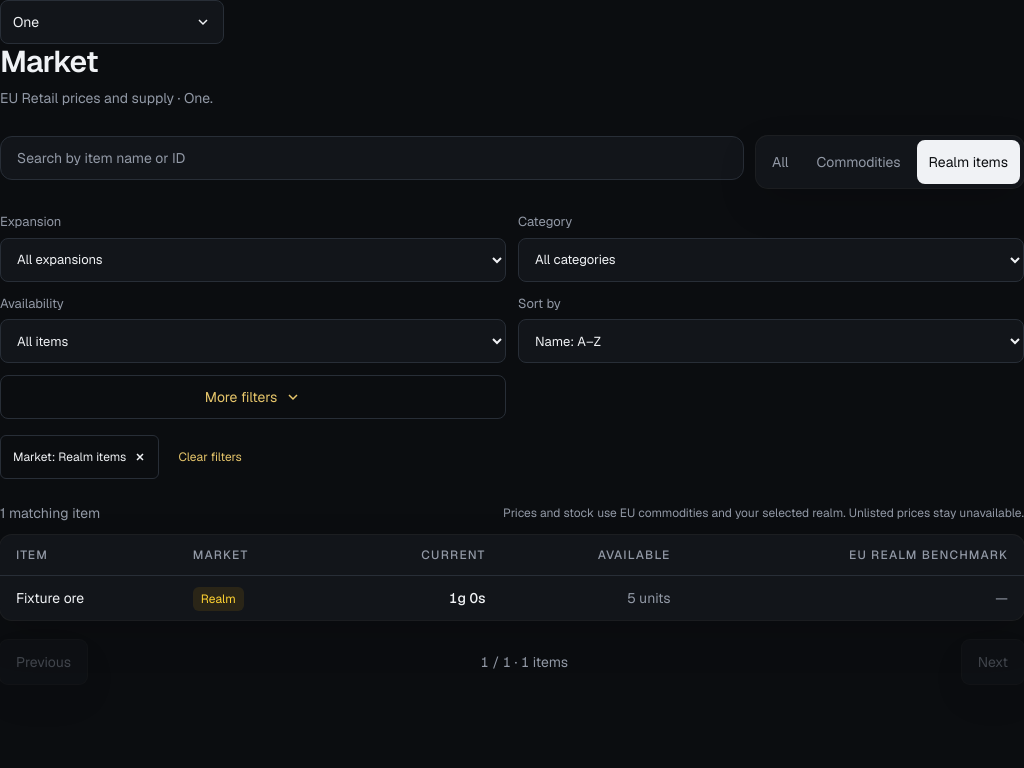
a failed refresh labels retained prices and can be retried after switching back to a realm
Expected: the link "Fixture ore" is shown, [16, 589, 84, 607]
Click the button with aria-label "Connected realm:" at (112, 22), box [0, 0, 224, 44]
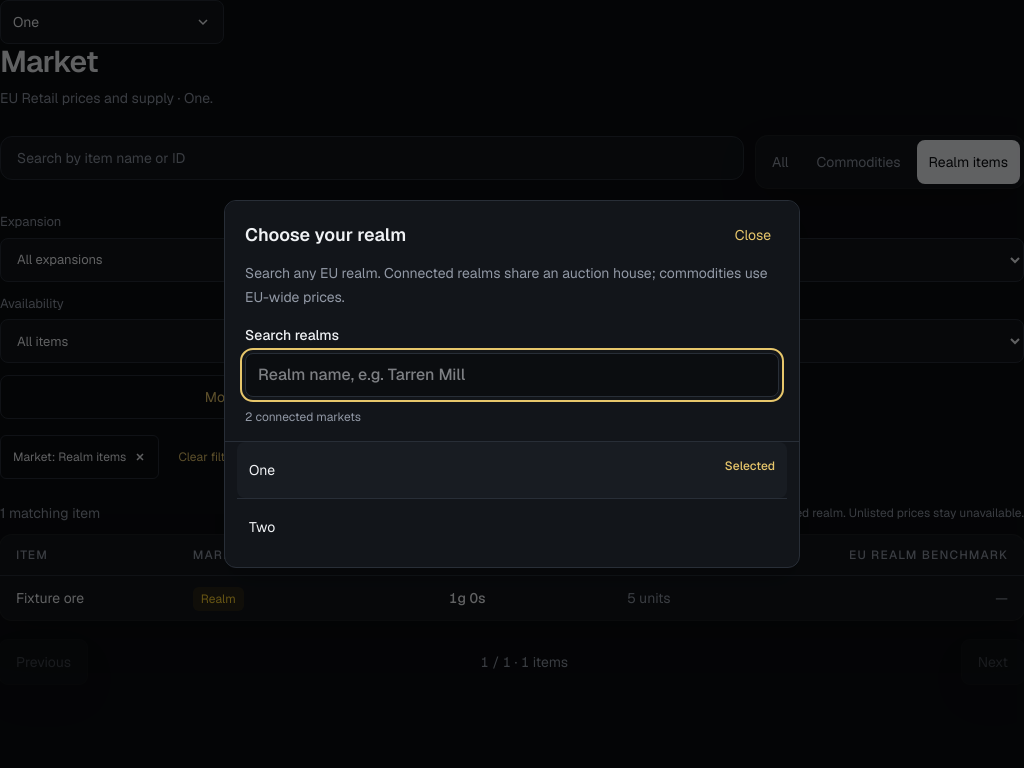
Click the button "Two" at (262, 527), box [237, 499, 787, 555]
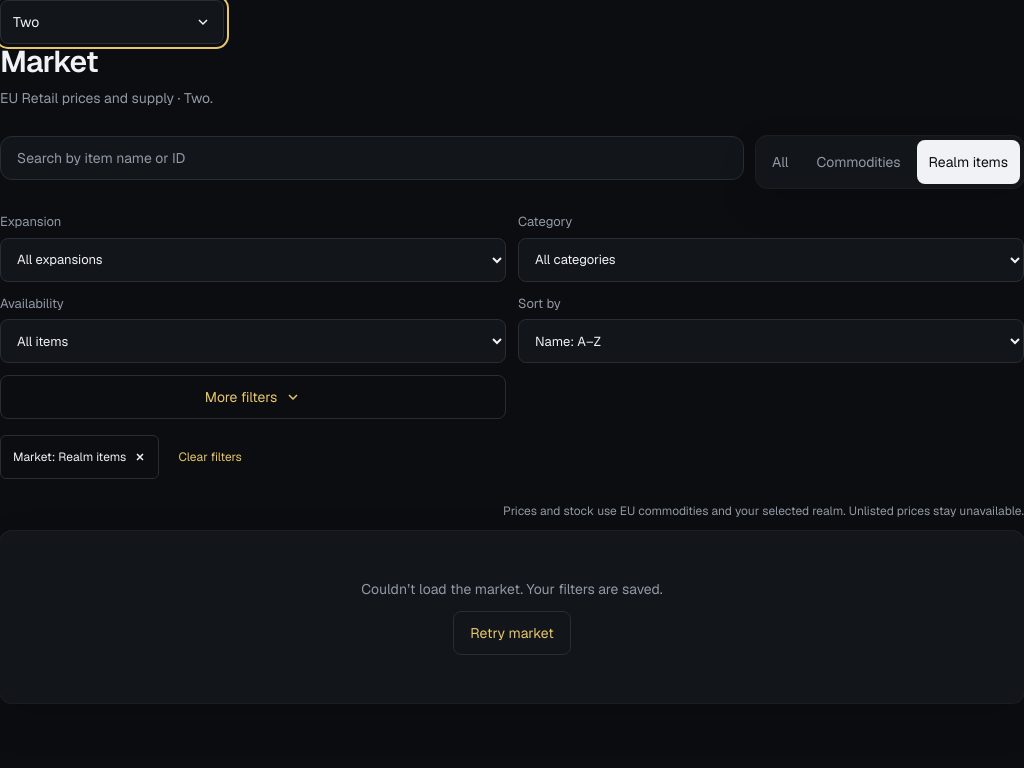
Now the button "Retry market" is shown, box [453, 611, 571, 655]
Click the button with aria-label "Connected realm:" at (112, 22), box [0, 0, 224, 44]
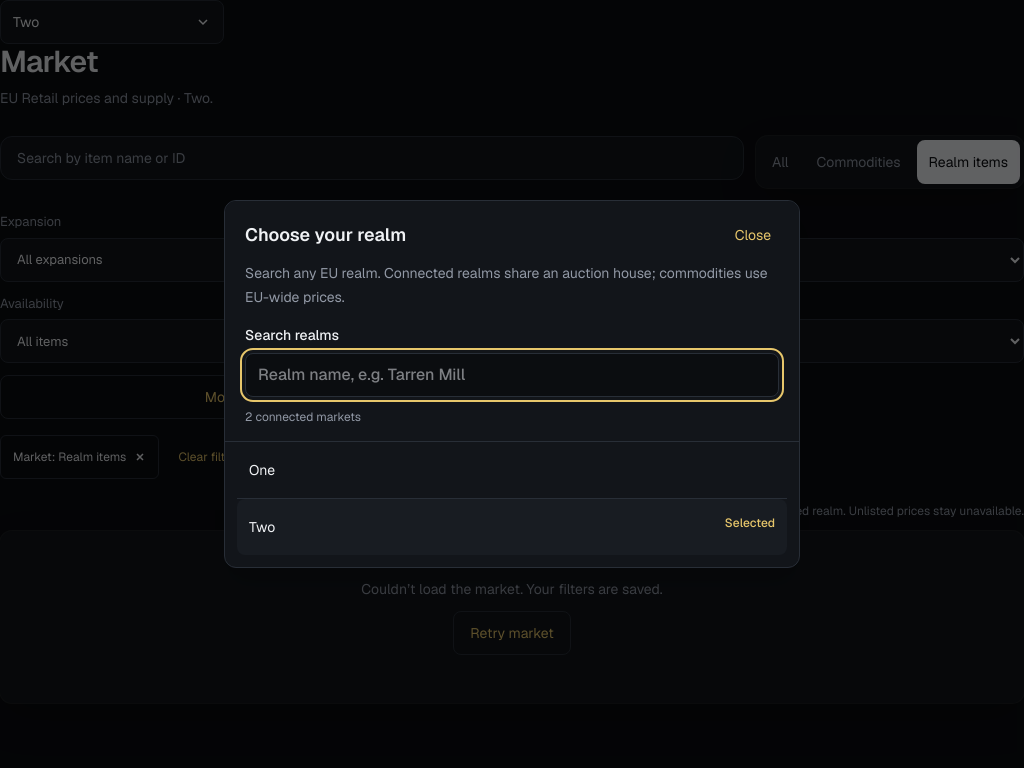
Click the button "One" at (262, 470), box [237, 442, 787, 498]
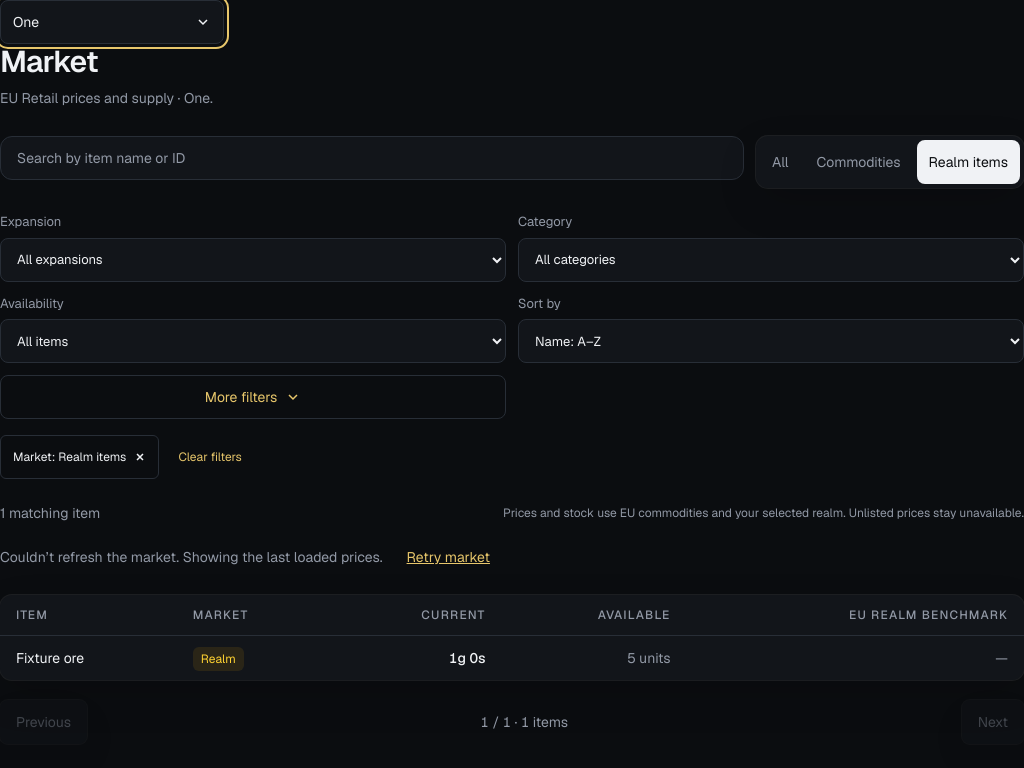
Now the message "Couldn’t refresh the market. Showing the last loaded prices. Retry market" is shown, box [0, 535, 498, 579]
Now the link "Fixture ore" is shown, box [16, 649, 84, 667]
Click the button "Retry market" at (448, 557), box [399, 535, 498, 579]
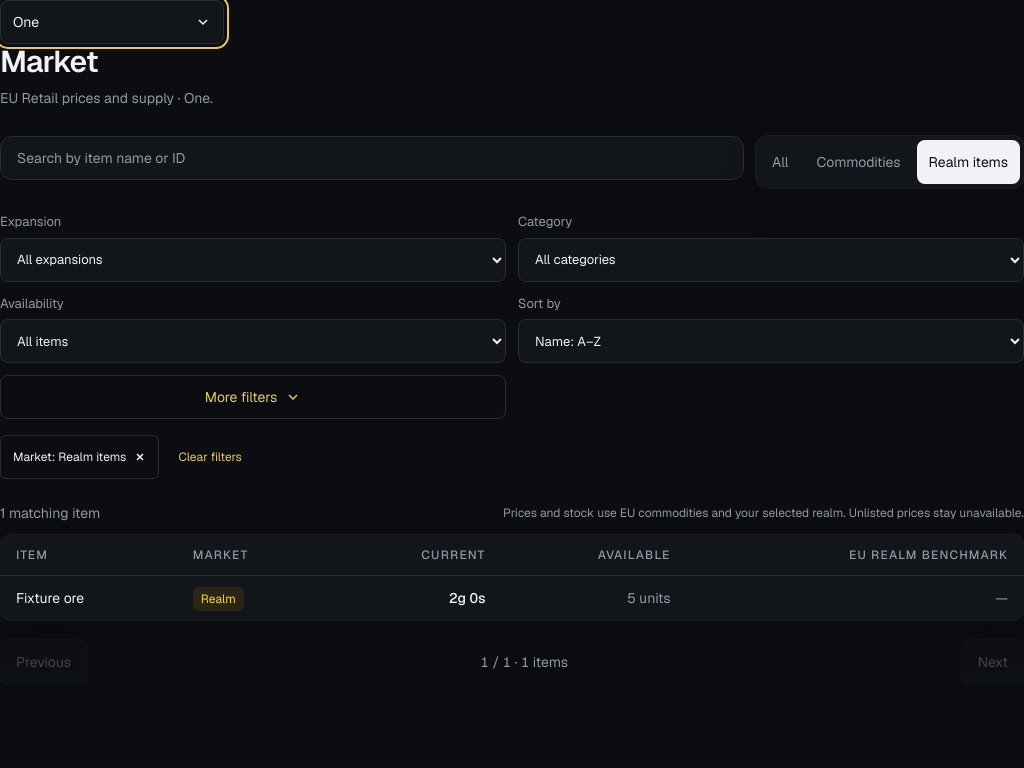
Now the text "2g 0s" is shown, box [332, 576, 502, 620]
